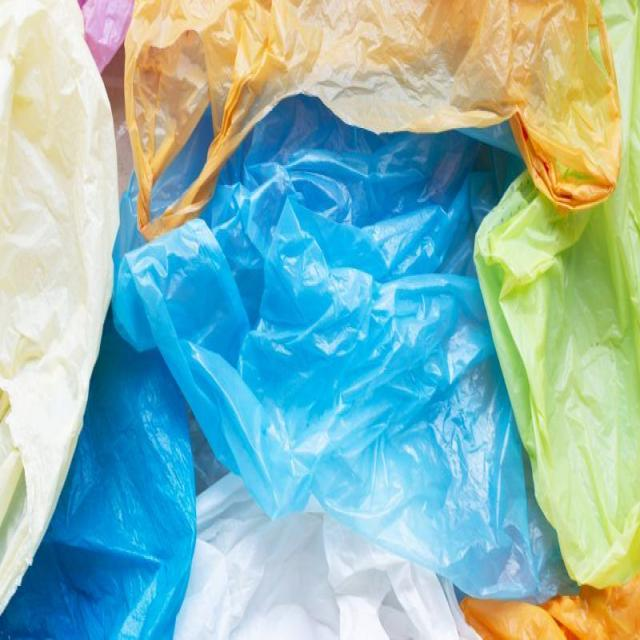plastic_bag: (93, 41, 597, 618)
